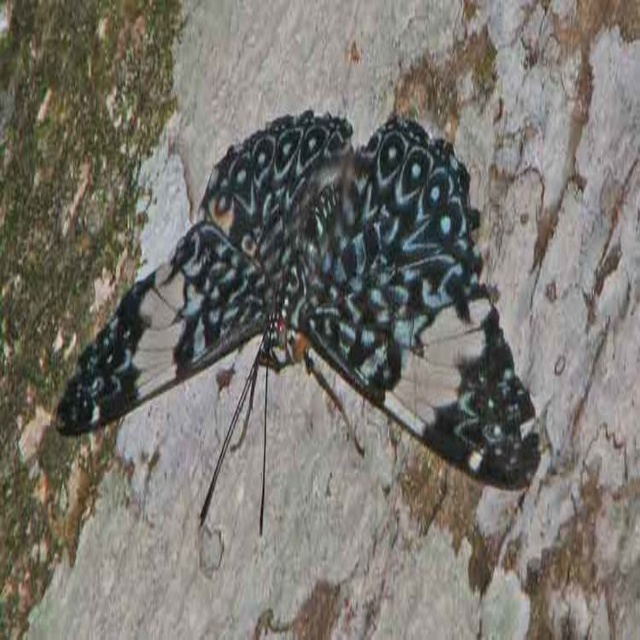Butterfly: (43, 100, 556, 569)
